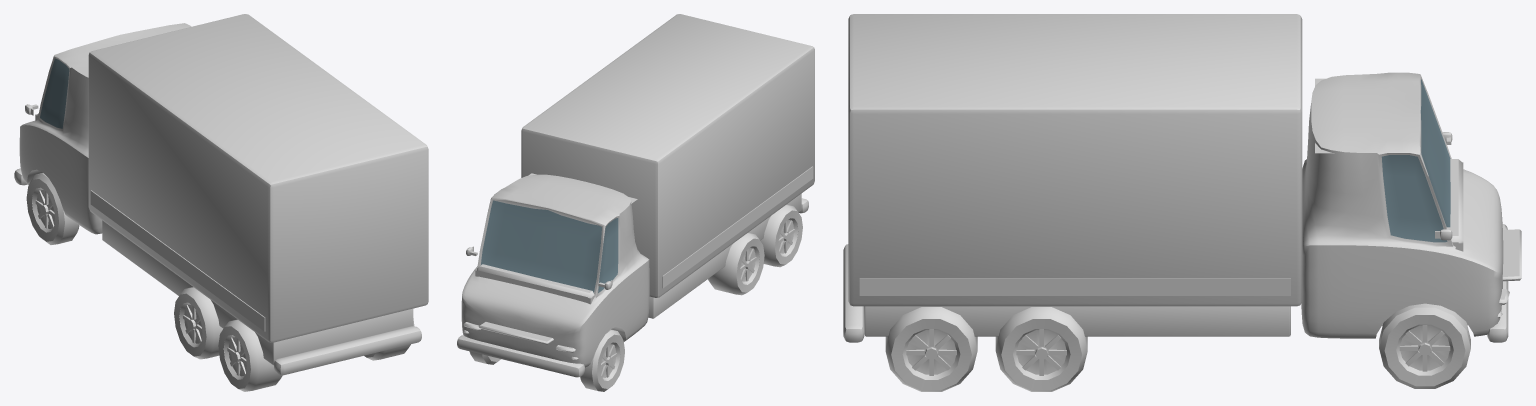
The model's file is car_truck.glb.
3 views of the same model, side by side, from view 1: azimuth 30°, elevation 25°; view 2: azimuth 150°, elevation 25°; view 3: azimuth 270°, elevation 25° (orthographic). The views are drawn at different scales.
Parts seen in each view (by area): view 1: car_truck; view 2: car_truck; view 3: car_truck.
Part boxes in pixels (x1,y1,x2,y2): car_truck: [14, 14, 428, 391]; car_truck: [457, 14, 814, 391]; car_truck: [843, 14, 1521, 391].
Size of the model in its own units: 2.48 by 3.29 by 7.08.
